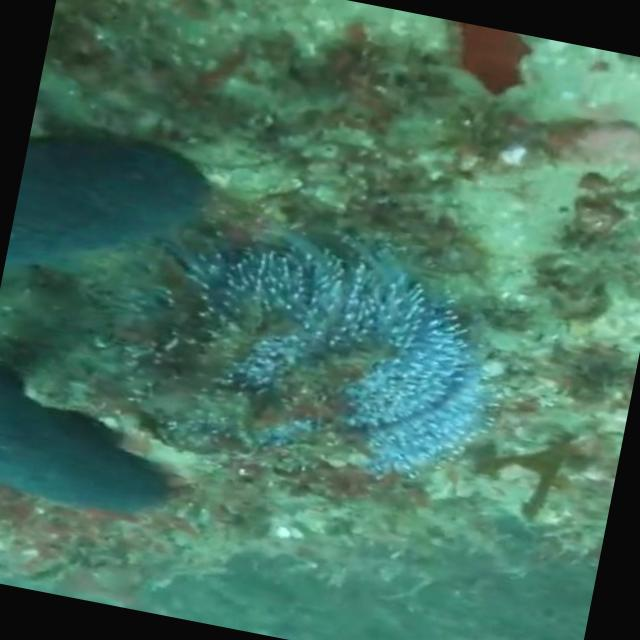Deniz Kestanesi: (88, 187, 524, 505)
